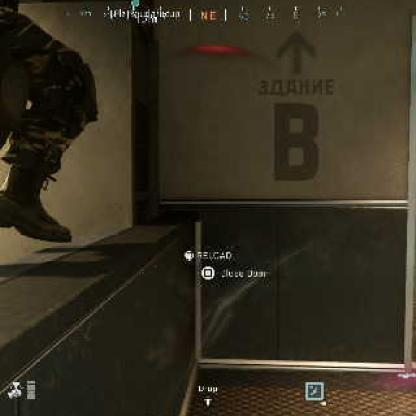enemy: (1, 14, 98, 247)
